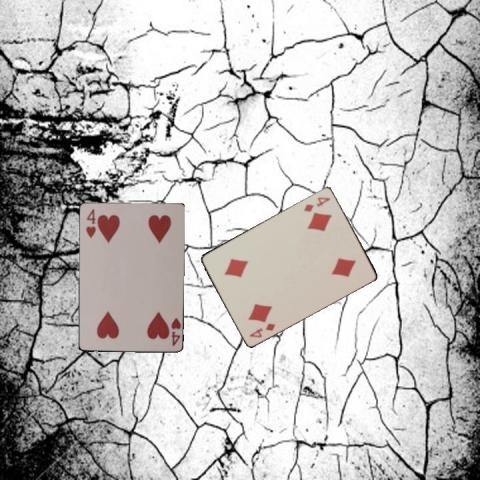4d: (301, 194, 332, 213), (246, 320, 277, 339)
4h: (83, 206, 96, 240), (168, 314, 181, 347)
